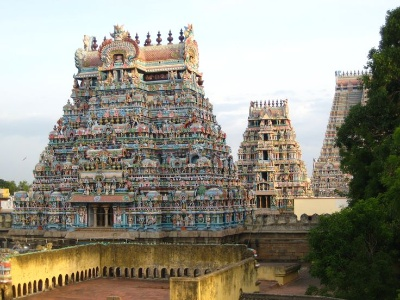gopura: (34, 60, 239, 225), (227, 102, 324, 210)
